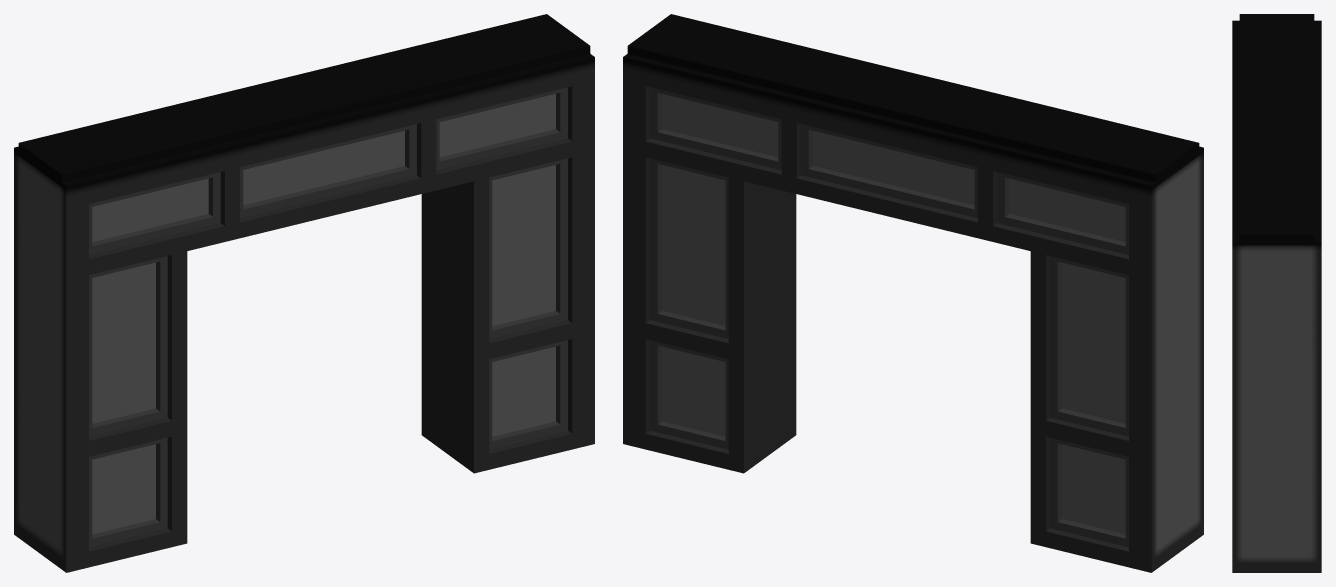
The model's file is Door-Stone-Model-03.fbx.
3 views of the same model, side by side, from view 1: azimuth 30°, elevation 25°; view 2: azimuth 150°, elevation 25°; view 3: azimuth 270°, elevation 25° (orthographic). The views are drawn at different scales.
Parts seen in each view (by area): view 1: Door-Stone-Model-03; view 2: Door-Stone-Model-03; view 3: Door-Stone-Model-03.
Boxes of the visible parts, x1=… form: Door-Stone-Model-03: x1=14, y1=14, x2=594, y2=572; Door-Stone-Model-03: x1=623, y1=14, x2=1203, y2=572; Door-Stone-Model-03: x1=1232, y1=14, x2=1321, y2=572.
Bounding box in the file's own units: 70 × 50 × 12.
1 material, 1 textured.
